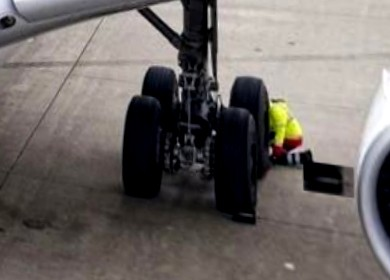chock: (302, 161, 357, 199), (228, 202, 263, 228)
wheel: (210, 100, 268, 224), (224, 73, 277, 182), (119, 89, 170, 202), (141, 62, 183, 131)
